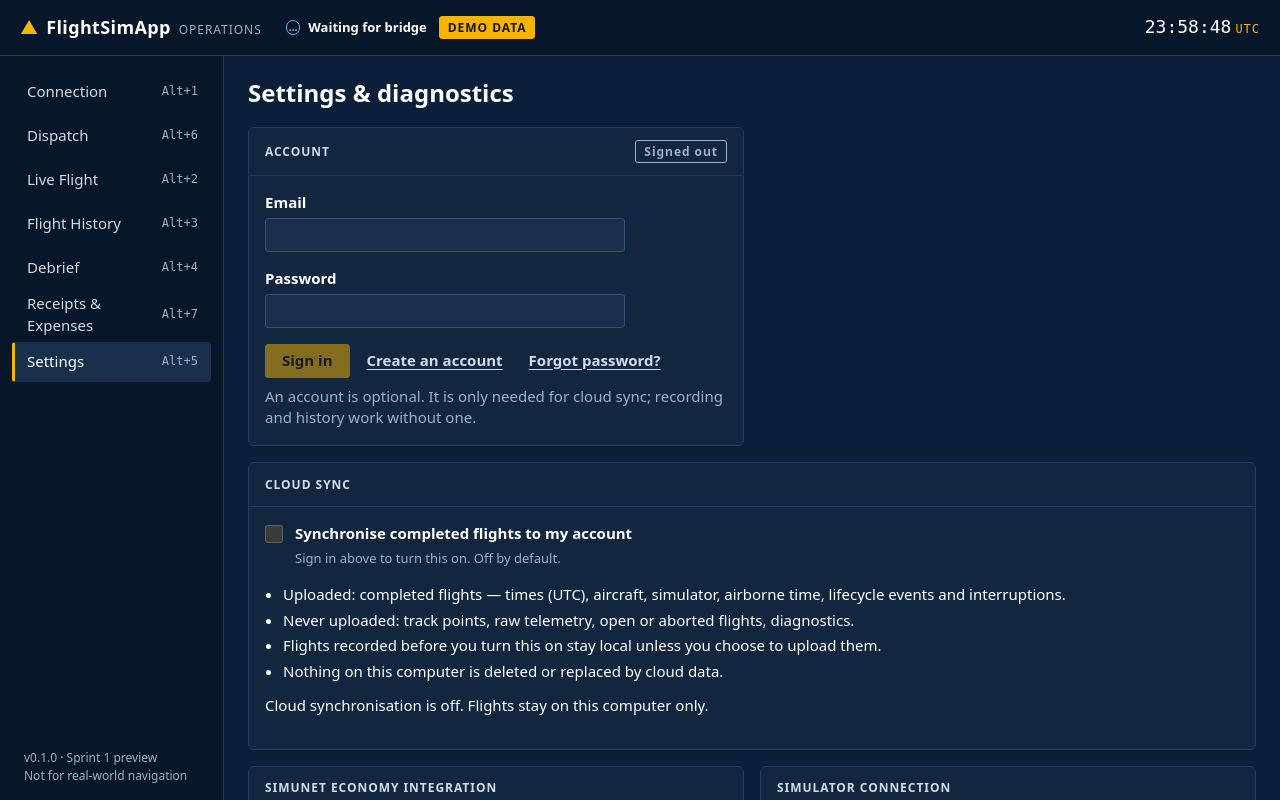
Scenario: Settings — account › validates password length before contacting the service
Click the button "Create an account" at (435, 361), box [358,344,512,378]
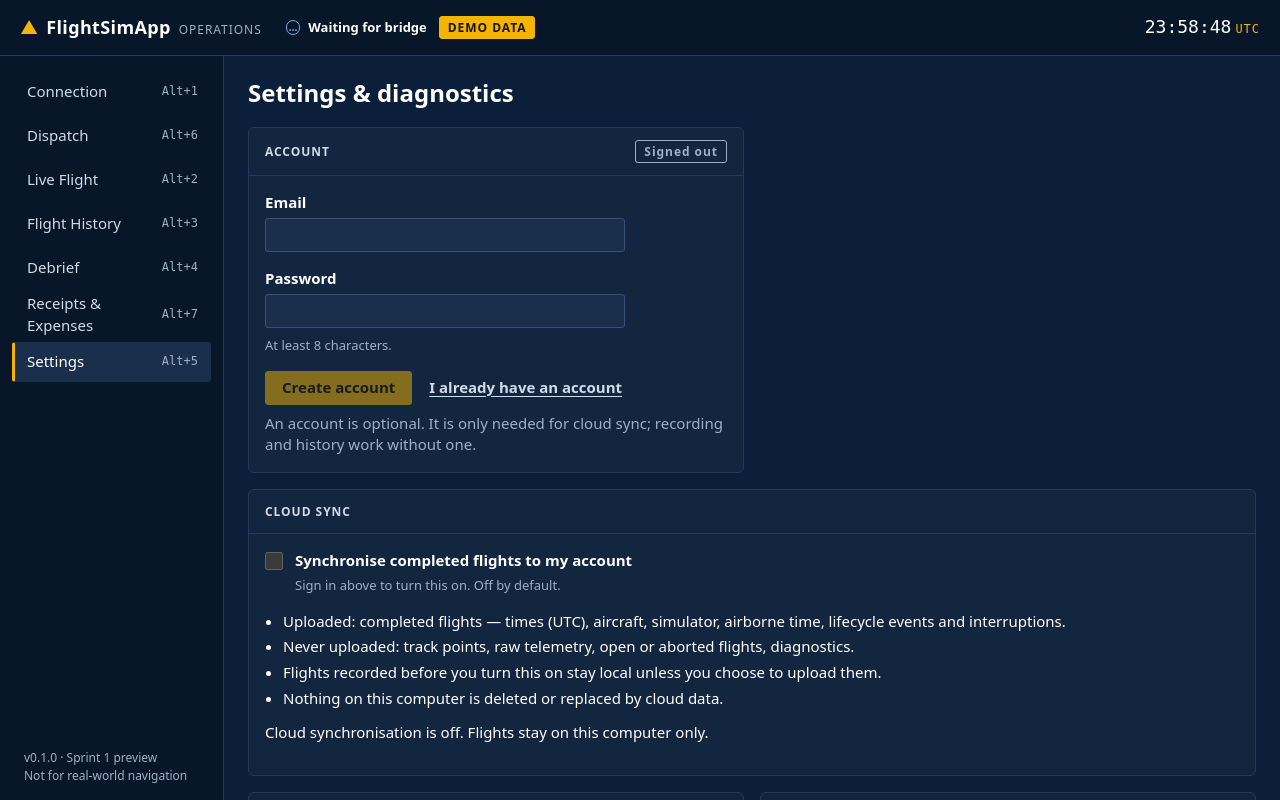
Type "new@example.test" into the field labelled "Email" at (445, 235), box [265,218,625,252]
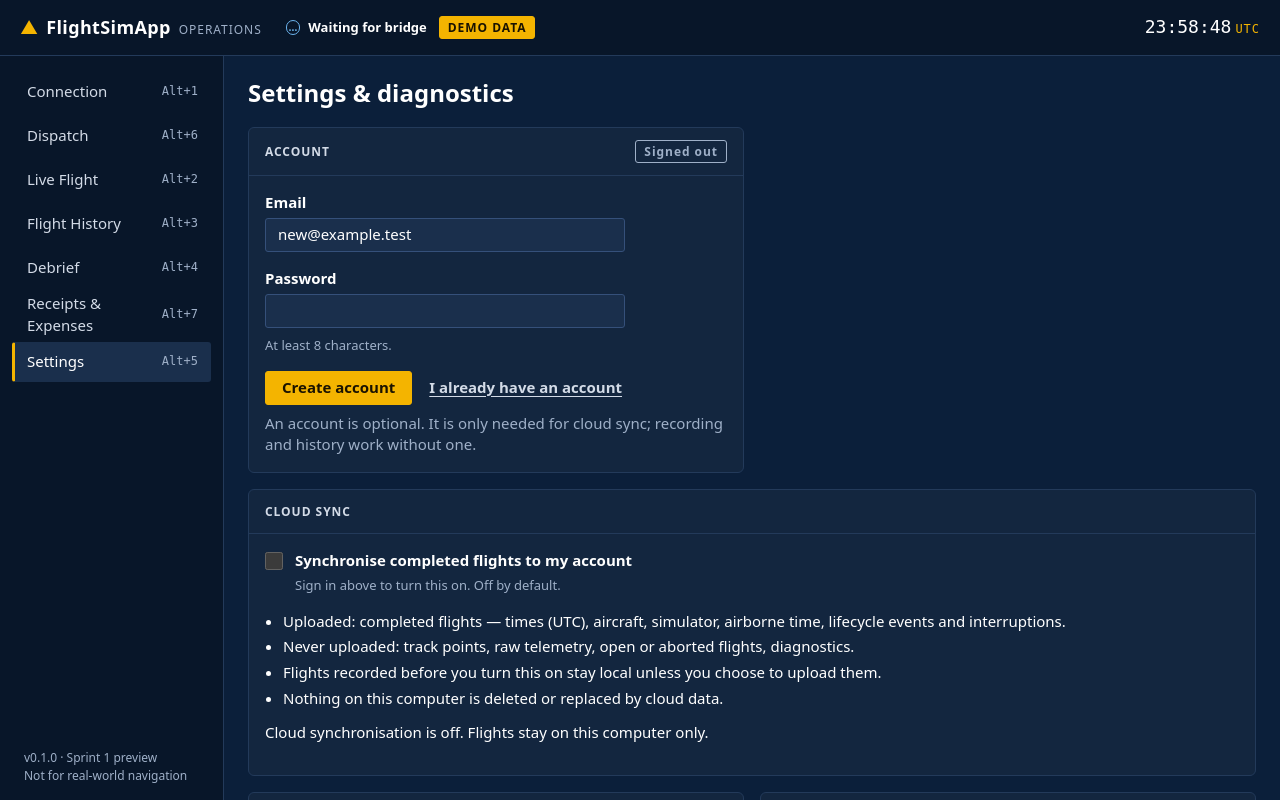
Type "short" into the password field labelled "Password" at (445, 311), box [265,294,625,328]
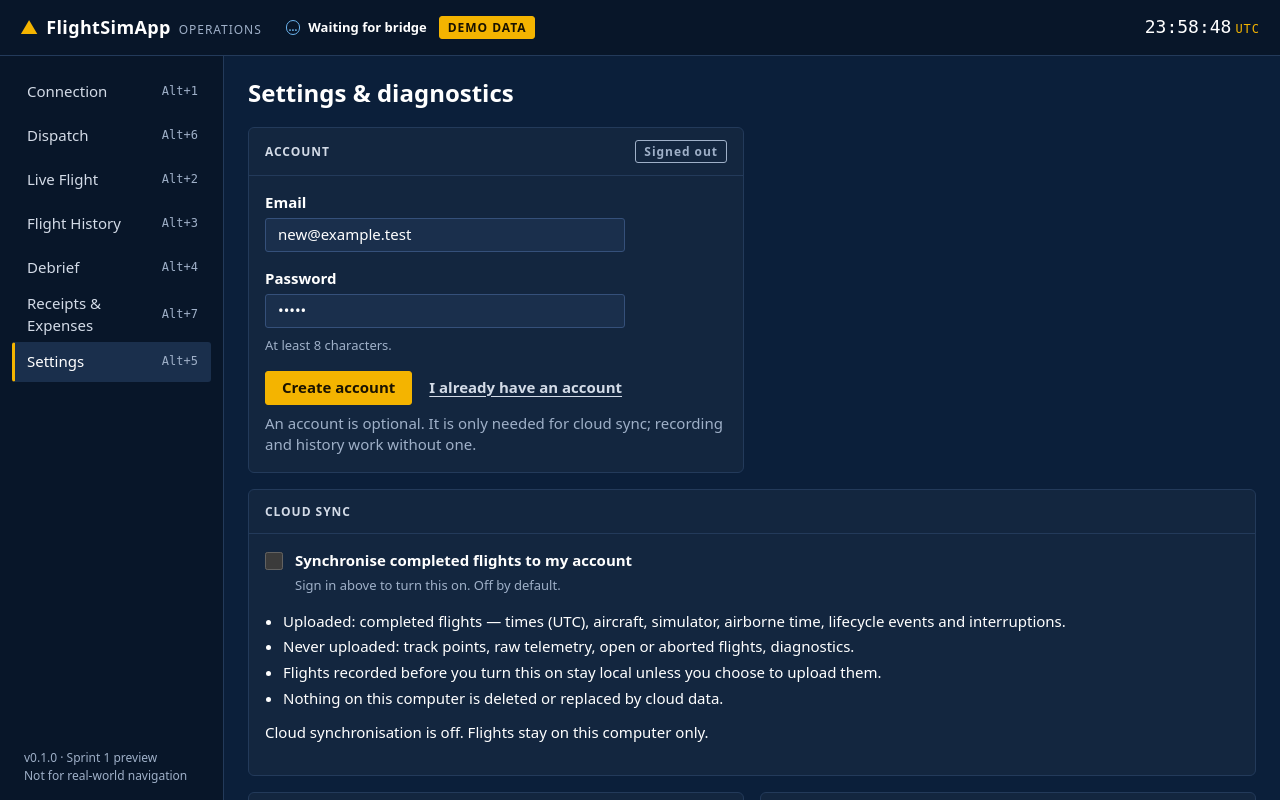
Click the button "Create account" at (339, 388), box [265,370,412,404]
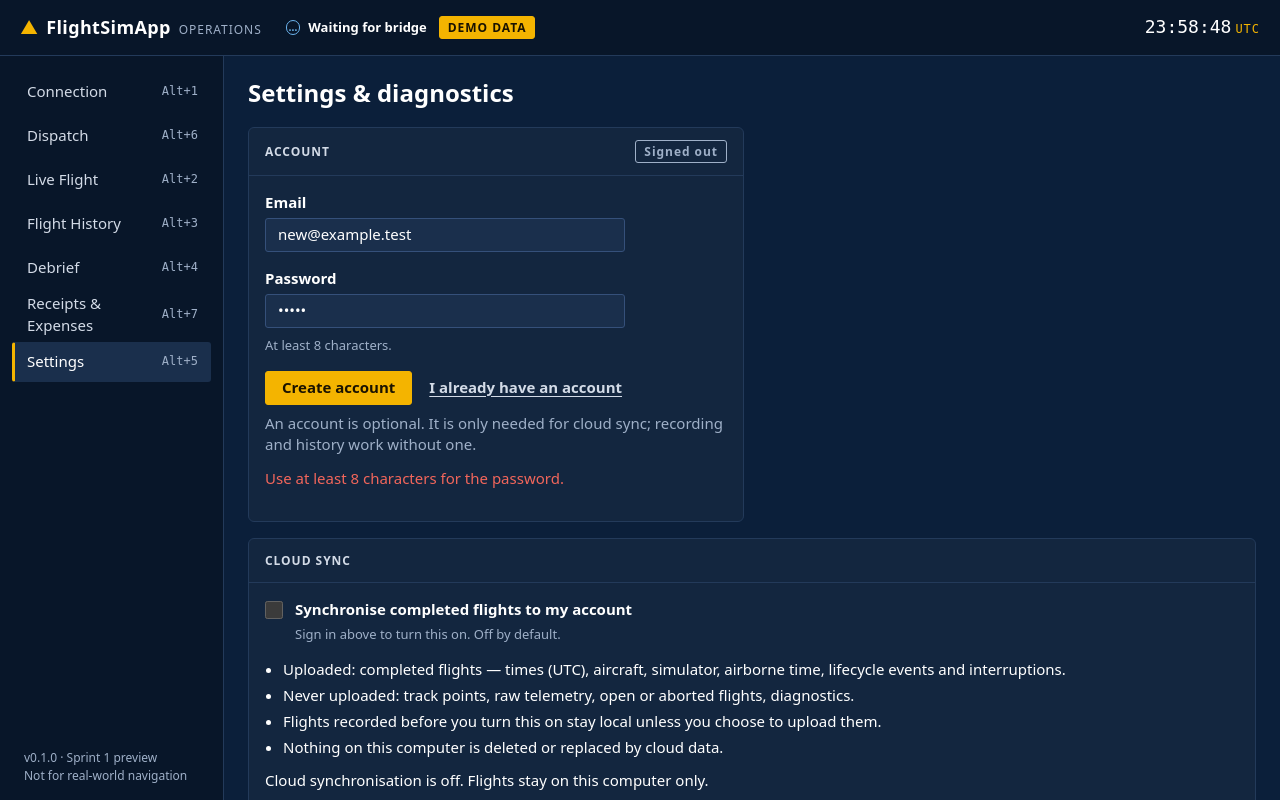
Now the message "Use at least 8 characters for the password." is shown, box [265,468,564,488]
